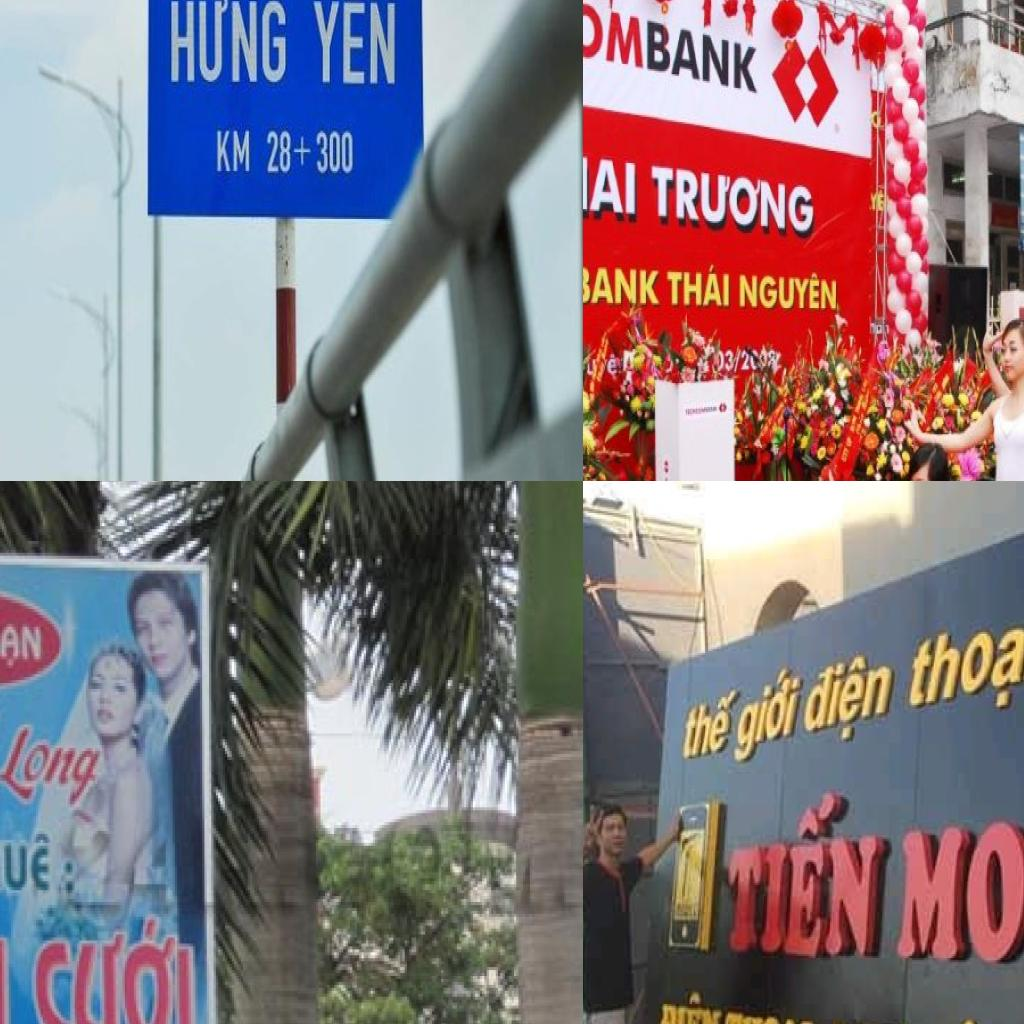text: (715, 782, 898, 964), (893, 785, 1024, 990), (27, 917, 197, 1024), (900, 597, 1024, 731), (650, 158, 814, 243), (794, 644, 904, 754), (170, 0, 288, 88), (0, 718, 106, 810), (645, 18, 760, 96), (730, 661, 808, 770), (312, 0, 395, 88), (737, 268, 842, 316), (679, 688, 741, 764), (583, 253, 664, 309), (583, 144, 637, 222), (0, 828, 56, 896), (663, 264, 730, 312), (652, 984, 727, 1024), (0, 615, 47, 671), (719, 1006, 833, 1024), (316, 130, 356, 178), (216, 130, 251, 176), (57, 858, 86, 905), (266, 128, 292, 176), (293, 135, 312, 169), (722, 346, 735, 376), (607, 352, 620, 376), (868, 189, 879, 214), (732, 349, 742, 376), (740, 347, 750, 371)
